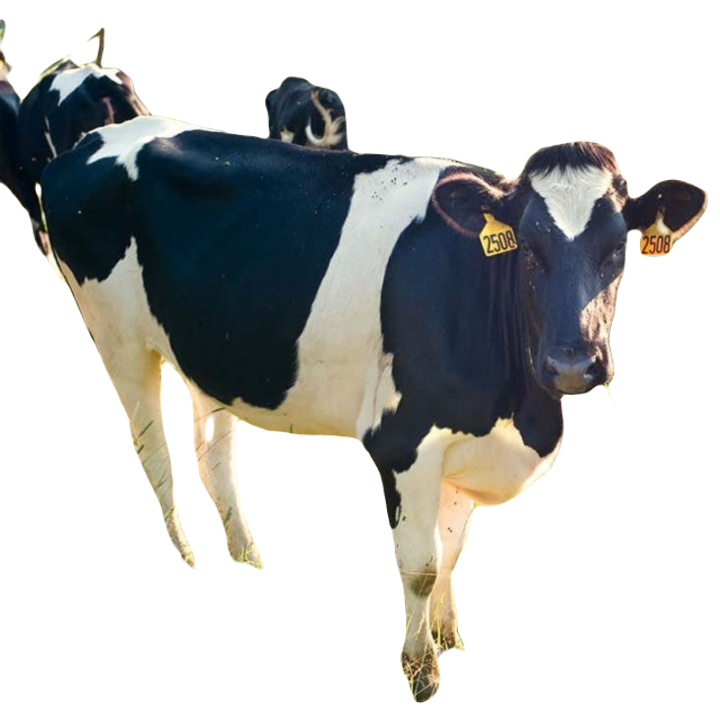Cow: (35, 117, 709, 701)
